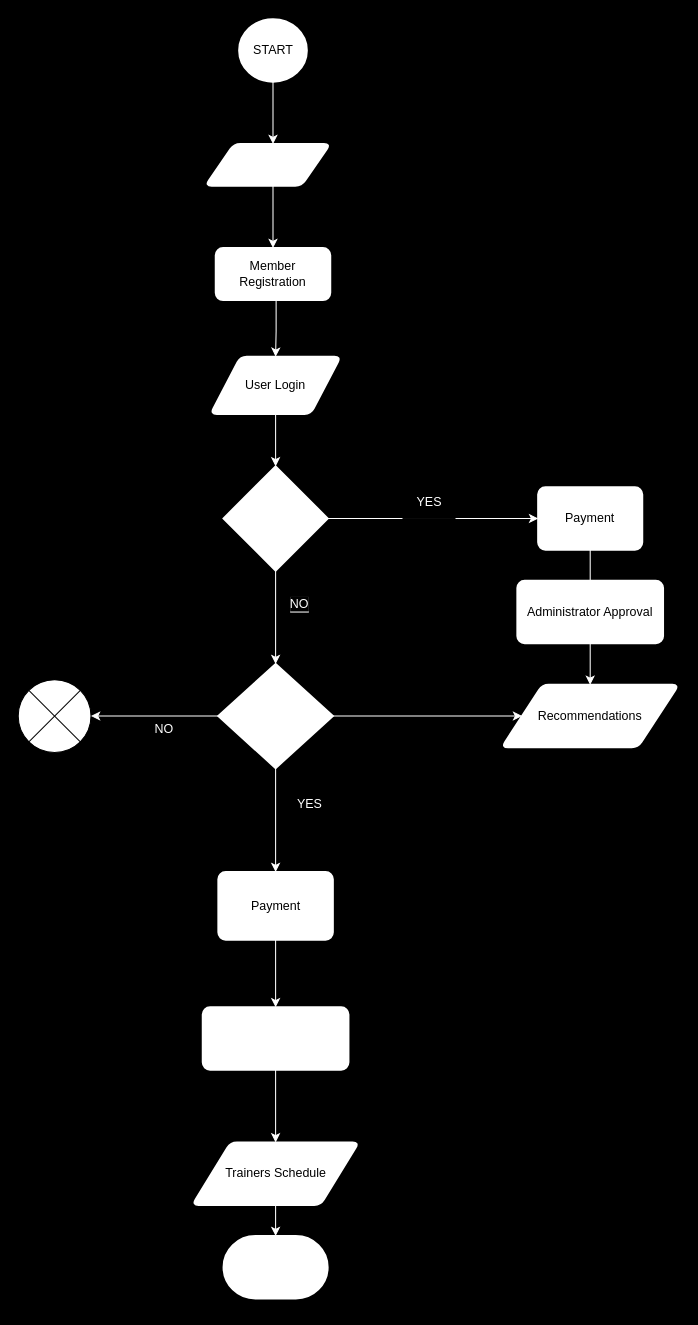
This 698x1325 diagram has some shape labels left out. Each missing label, with the centre of its shape:
Administrators Approval: the point at 275,1038
Apply for Nutritionist?: the point at 275,518
Apply for Trainer(Trainer Selection): the point at 275,715
END: the point at 275,1266
Member Data: the point at 267,164
